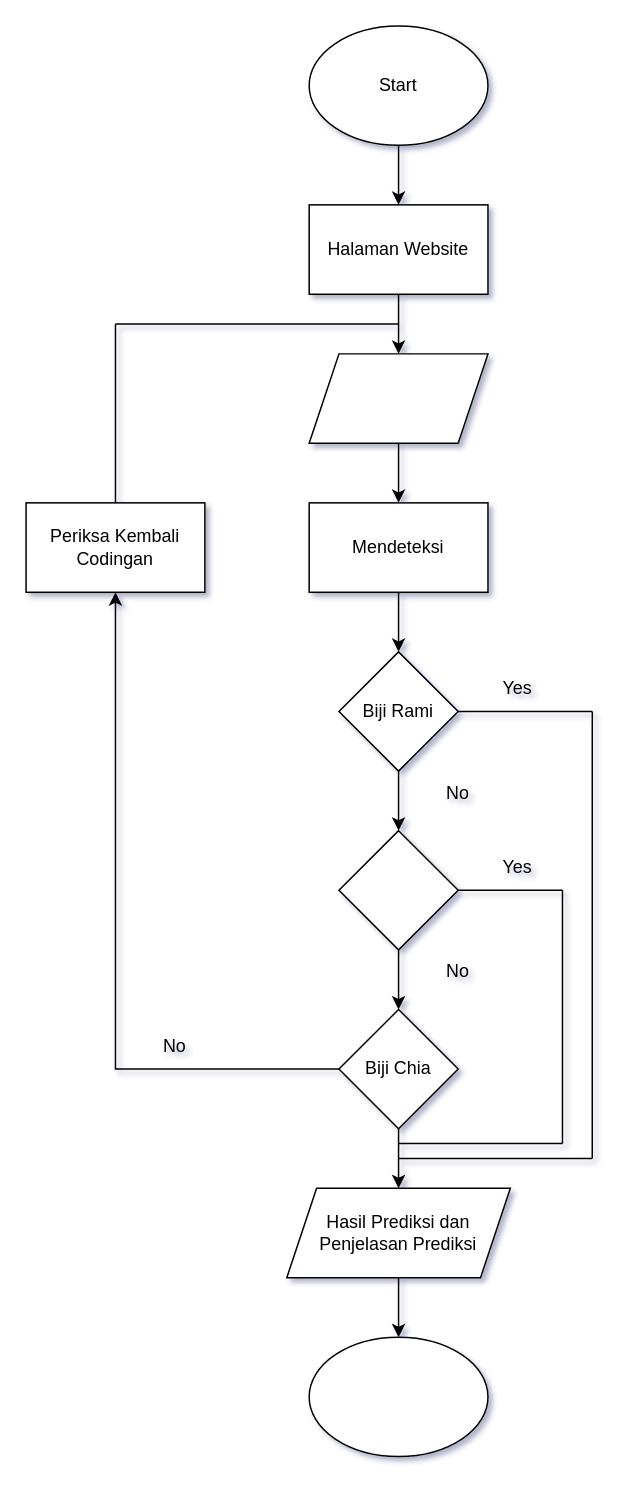
This 629x1491 diagram has some shape labels left out. Each missing label, with the centre of its shape:
"Biji Wijen" goes at point (397, 889).
"Finish" goes at point (398, 1396).
"Upload Gambar" goes at point (398, 397).
